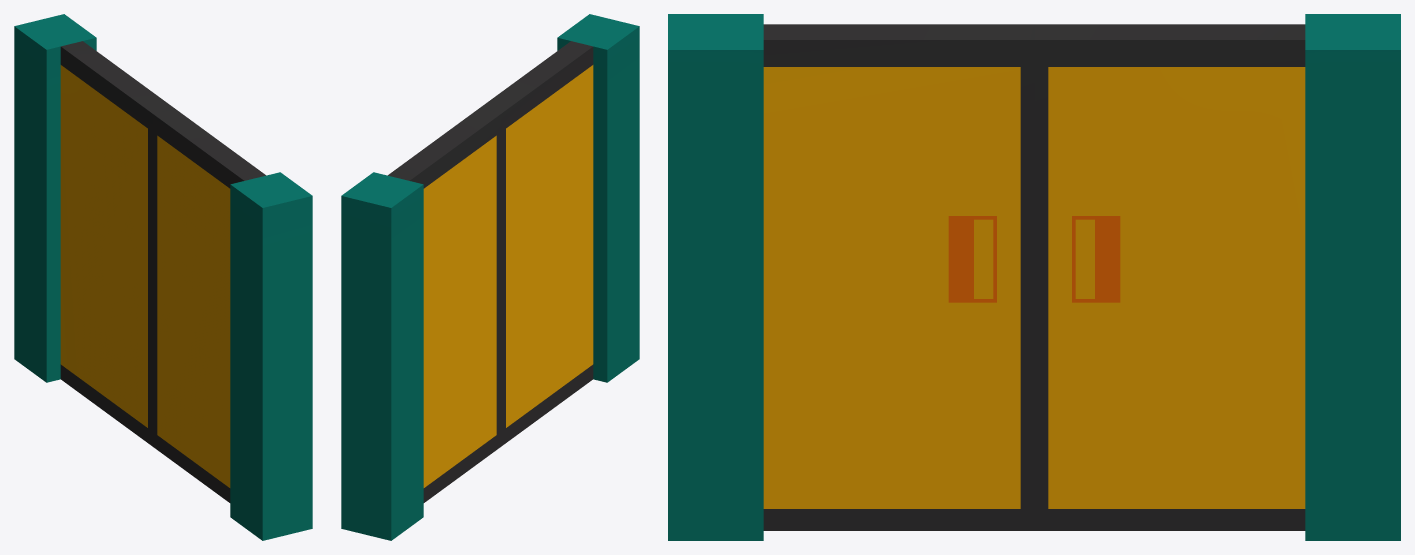
File: Cua2.fbx
The picture shows the model from 3 angles, left to right: view 1: azimuth 30°, elevation 25°; view 2: azimuth 150°, elevation 25°; view 3: azimuth 270°, elevation 25°; orthographic projection. The views are drawn at different scales.
Visible parts, largest first — view 1: cua2, cua2_cot; view 2: cua2, cua2_cot; view 3: cua2, cua2_cot.
Boxes of the visible parts, bbox=[...] form: cua2: bbox=[60, 41, 265, 502]; cua2_cot: bbox=[14, 14, 312, 540]; cua2: bbox=[388, 41, 593, 502]; cua2_cot: bbox=[341, 14, 639, 540]; cua2: bbox=[763, 24, 1305, 530]; cua2_cot: bbox=[668, 14, 1400, 540].
Bounding box in the file's own units: 104 × 660 × 892.
Materials: 1 (1 with a texture image).
